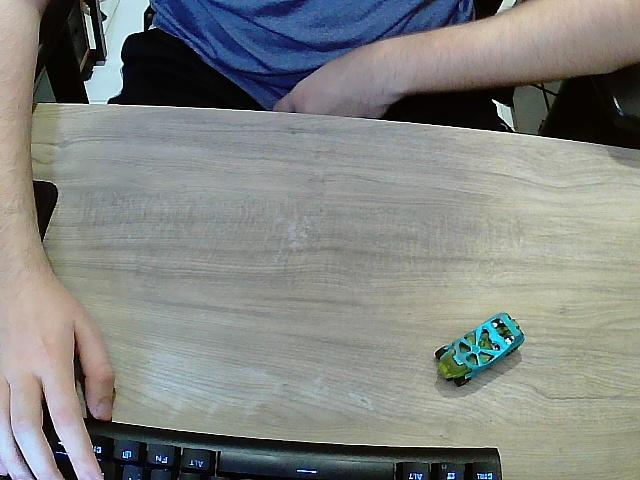Carro: (435, 314, 526, 389)
